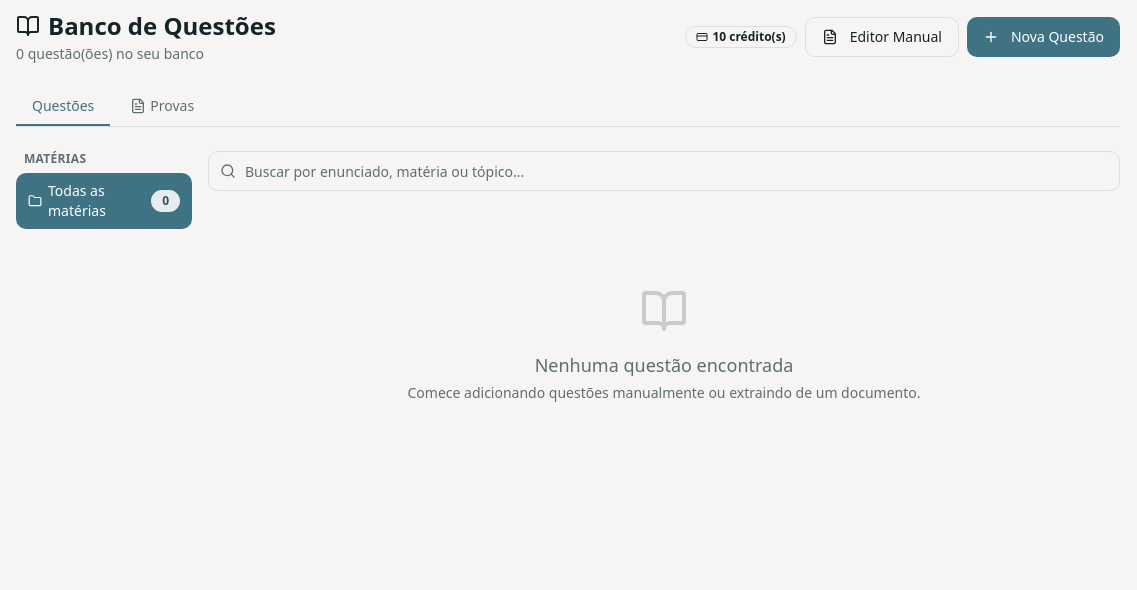
Test: QuestionBankPage › exam history shows pdf_uploads list
Click the tab "Provas" at [162, 107], box [114, 88, 210, 126]
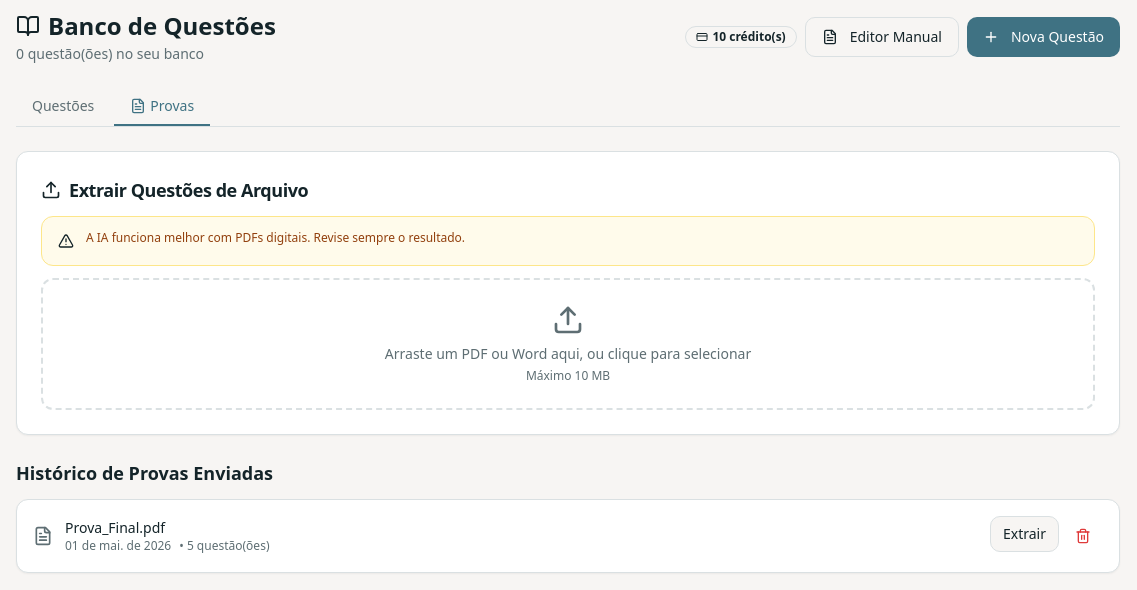
Now the text "Prova_Final.pdf" is shown, box [65, 518, 165, 537]
Now the text "• 5 questão(ões)" is shown, box [179, 537, 270, 554]
